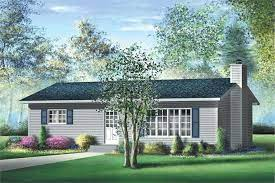Building House: (18, 72, 259, 152)
